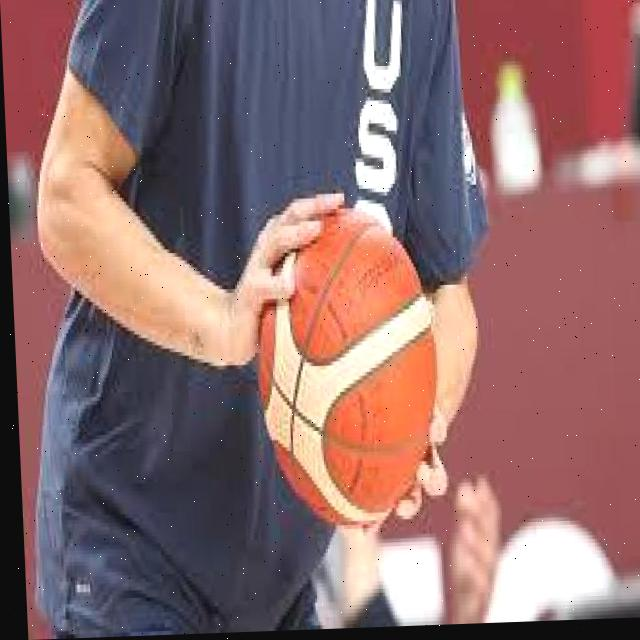Basketball: (252, 205, 443, 529)
